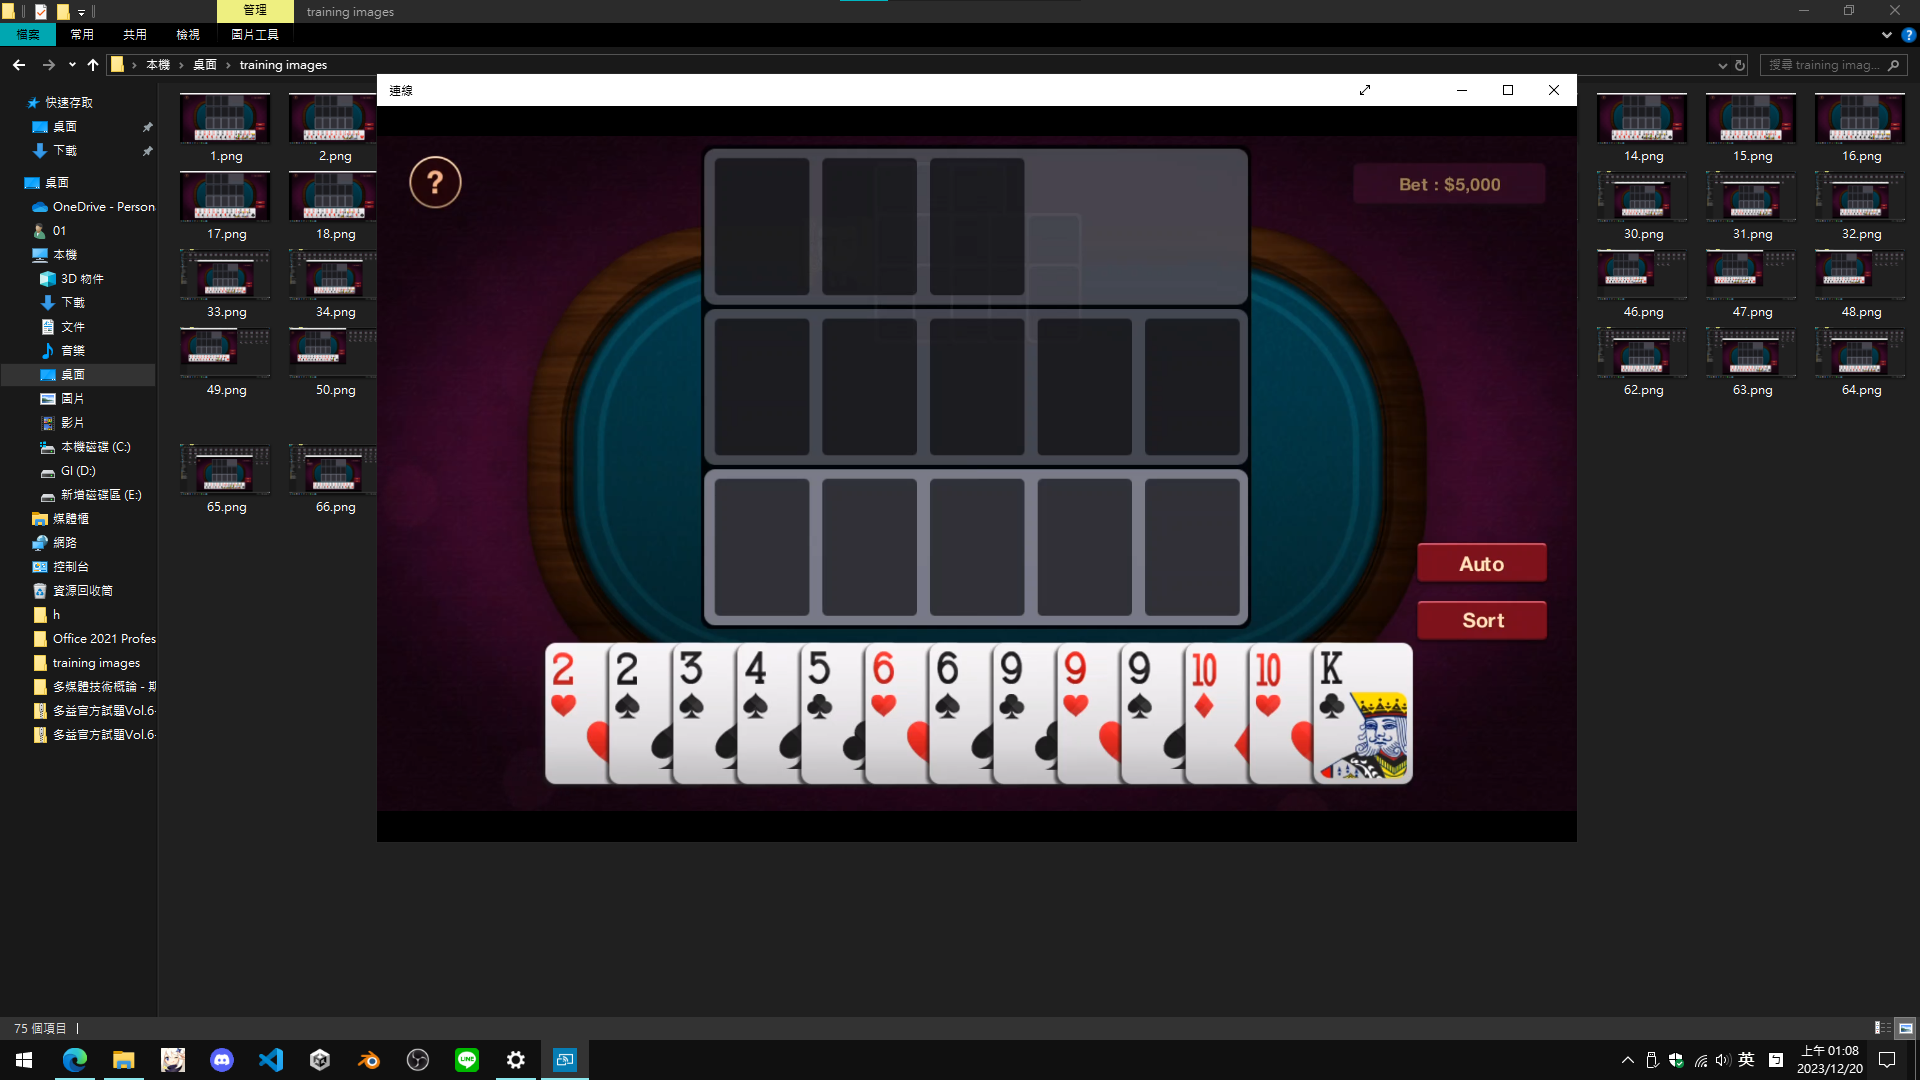10D: (1189, 649, 1218, 723)
10H: (1251, 647, 1286, 720)
2H: (550, 647, 579, 720)
2S: (613, 649, 642, 724)
3S: (676, 645, 705, 728)
4S: (741, 646, 770, 723)
5C: (804, 647, 836, 725)
6H: (869, 646, 898, 720)
6S: (932, 649, 964, 723)
9C: (997, 647, 1026, 725)
9H: (1060, 649, 1091, 720)
9S: (1125, 649, 1156, 721)
KC: (1319, 647, 1346, 727)
